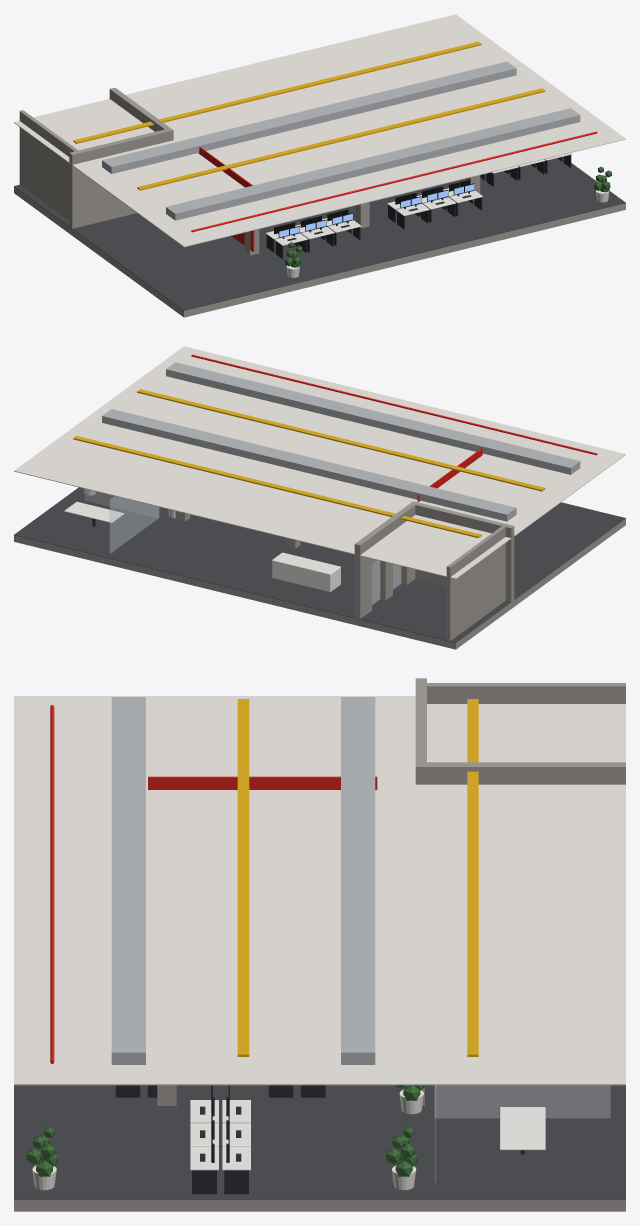
3 views of the same model, one above another, from view 1: azimuth 30°, elevation 25°; view 2: azimuth 150°, elevation 25°; view 3: azimuth 270°, elevation 25° (orthographic). The views are drawn at different scales.
Visible parts, largest first — view 1: LV_L1, screen_office.001; view 2: LV_L1, pod_glass; view 3: LV_L1, pod_glass.
Boxes of the visible parts, box(x1,y1,x2,y2) form: LV_L1: box(14, 14, 625, 317); screen_office.001: box(279, 184, 474, 237); LV_L1: box(14, 346, 625, 649); pod_glass: box(85, 489, 159, 553); LV_L1: box(14, 678, 625, 1211); pod_glass: box(434, 1085, 610, 1182).
Size of the model in its own units: 24 by 4.2 by 16.
